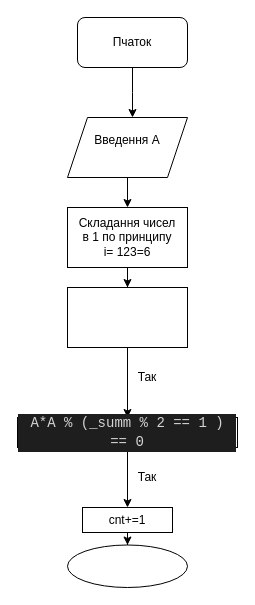
Image size: 255x605. Some labels were removed from this diagram. Each missing label, with the box of its shape:
i%2: (66, 286, 188, 348)
Кінець: (66, 544, 188, 588)
